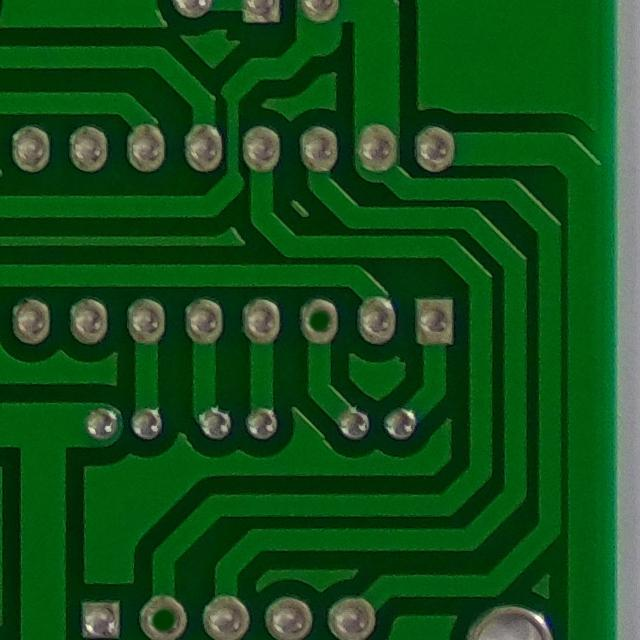missing_hole: (291, 290, 349, 350)
